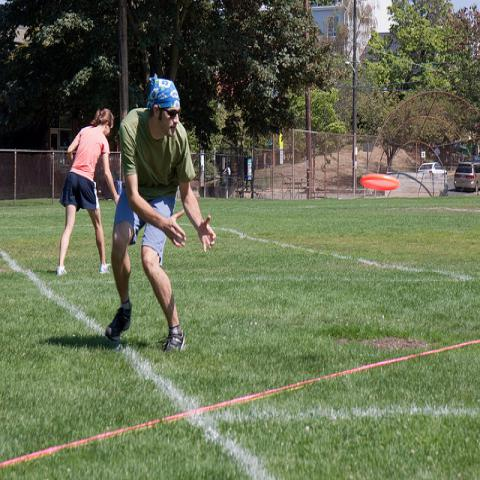car: (453, 162, 480, 192), (417, 162, 447, 177)
